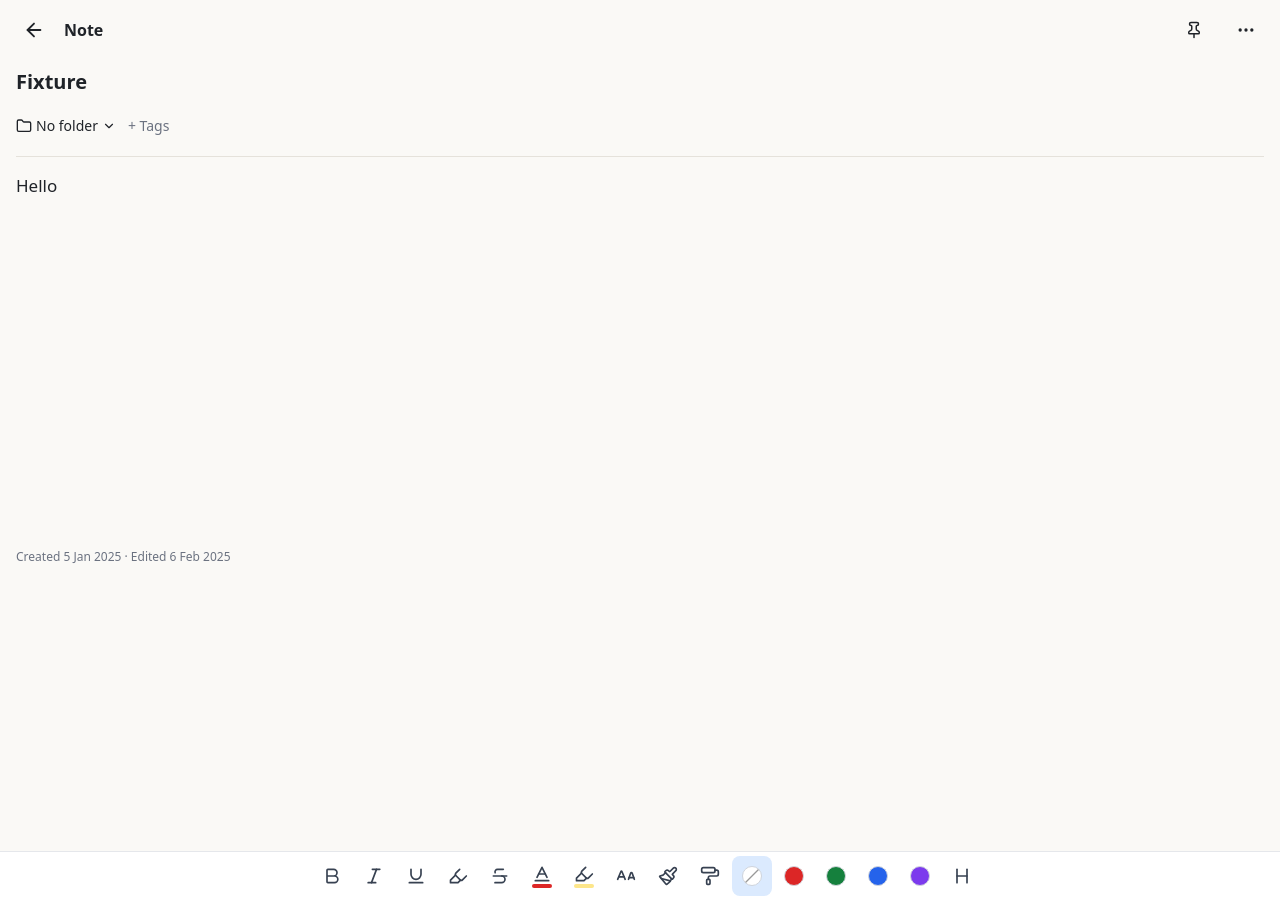
it: ends with the creation and last edit dates, and an edit updates them at once
This screenshot has width=1280, height=900.
Expected: the text "Created 5 Jan 2025 · Edited 6 Feb 2025" is shown, [16,548,230,565]
Replace the text in the field named "Title" with "A new title": [640, 82] box [16,60,1264,104]
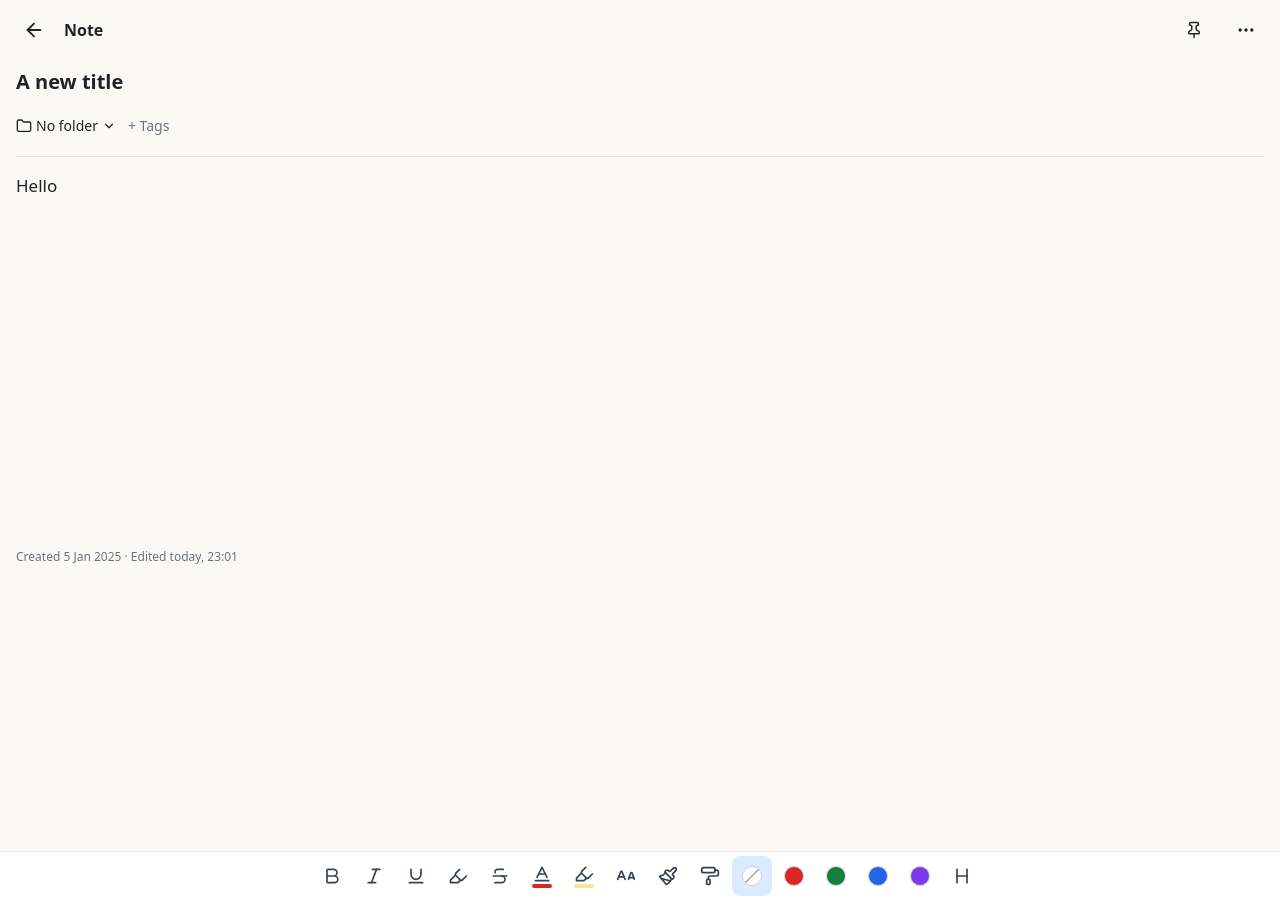
Expected: the text "Created 5 Jan 2025 · Edited today, 23:01" is shown, [16,548,238,565]
